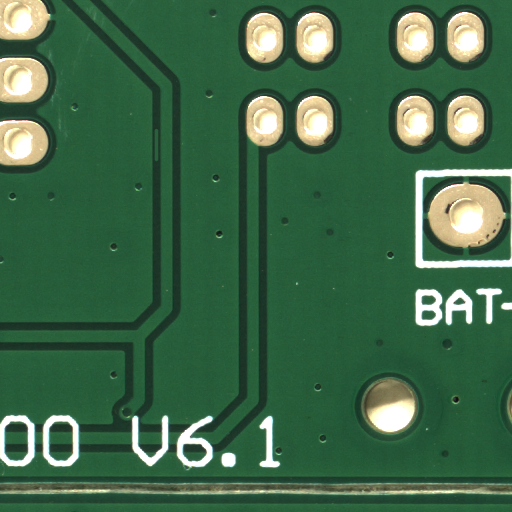Spurious_copper: (155, 144, 163, 177)
